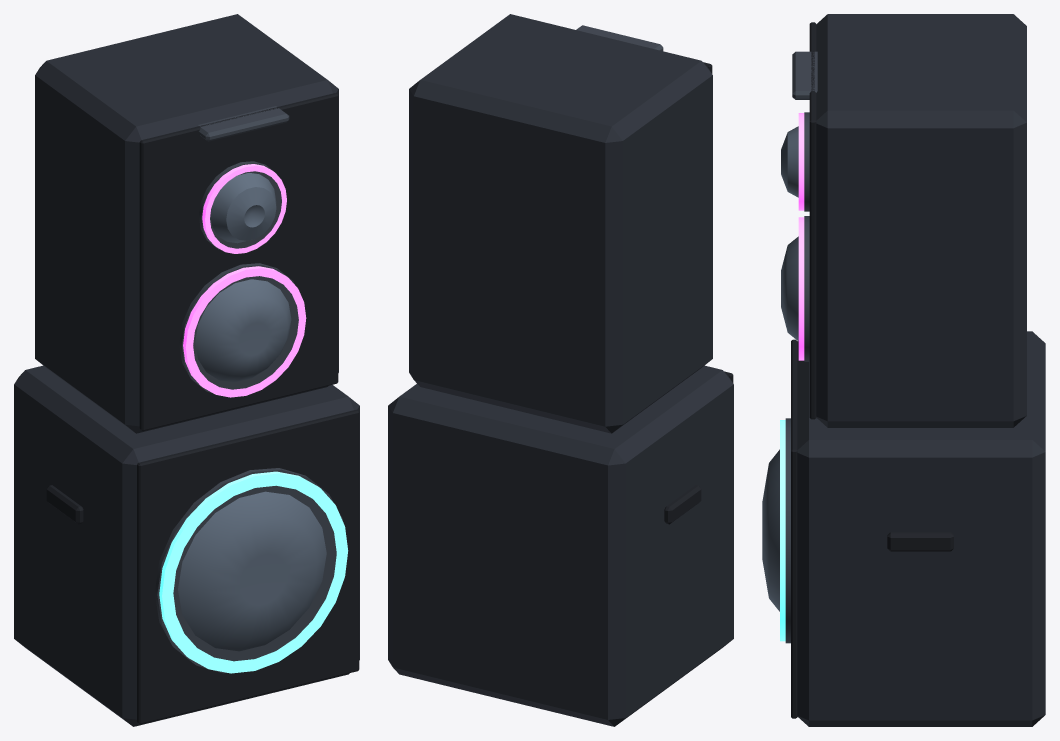
File: caixas_som_grandes.glb
The picture shows the model from 3 angles, left to right: view 1: azimuth 30°, elevation 25°; view 2: azimuth 150°, elevation 25°; view 3: azimuth 270°, elevation 25°; orthographic projection. The views are drawn at different scales.
Visible parts, largest first — view 1: caixas_som_grandes, aneis_neon; view 2: caixas_som_grandes; view 3: caixas_som_grandes, aneis_neon.
Boxes of the visible parts, x1,y1,x2,y2 form: caixas_som_grandes: (14,14,359,726); aneis_neon: (159,164,348,673); caixas_som_grandes: (388,14,733,726); caixas_som_grandes: (762,14,1045,726); aneis_neon: (780,113,804,641).
Bounding box in the file's own units: 0.9 × 2.02 × 0.85.
Materials: 3 (1 with a texture image).
